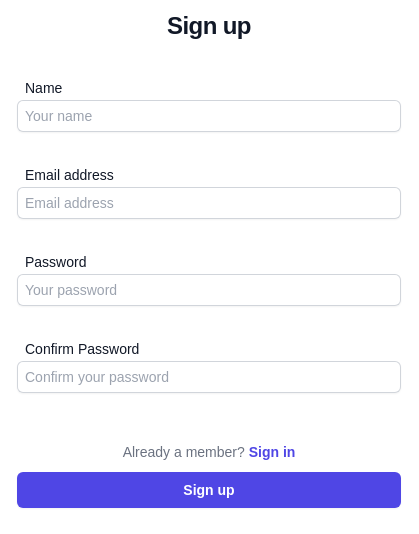
Test: SignUpForm Component › should validate the email field
The image size is (419, 534).
Type "invalid-email" into the field named "email". click: x=209, y=203
box: left=17, top=187, right=401, bottom=219
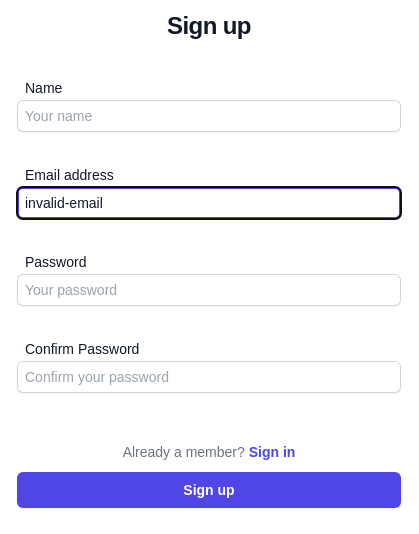
Click the submit button. click: x=209, y=490
box: left=17, top=472, right=401, bottom=508
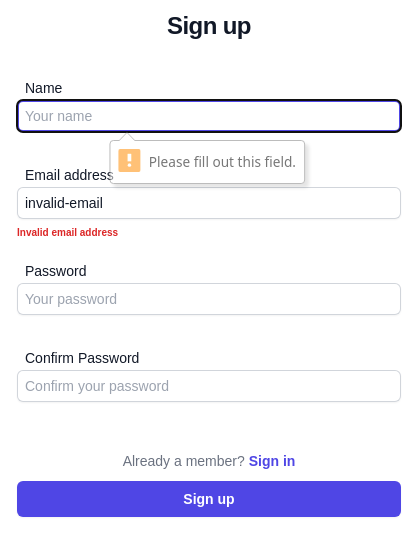
Check: the text "Invalid email address" is shown, box left=17, top=227, right=118, bottom=238
